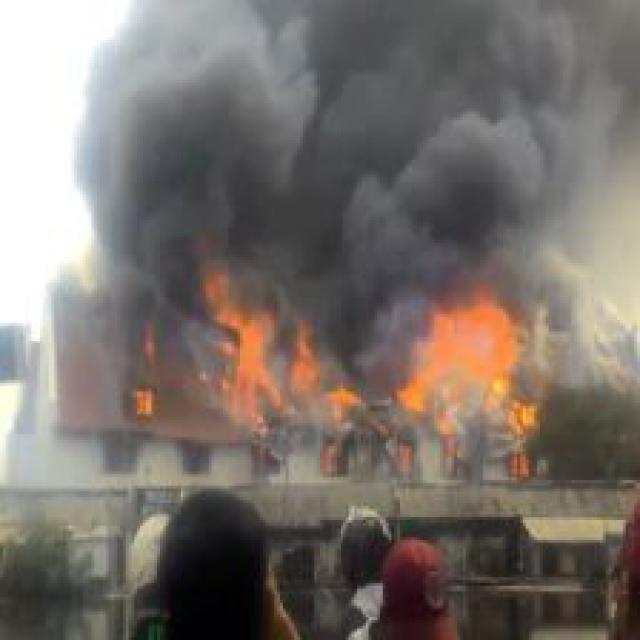fire: (197, 271, 369, 446), (377, 286, 549, 443)
